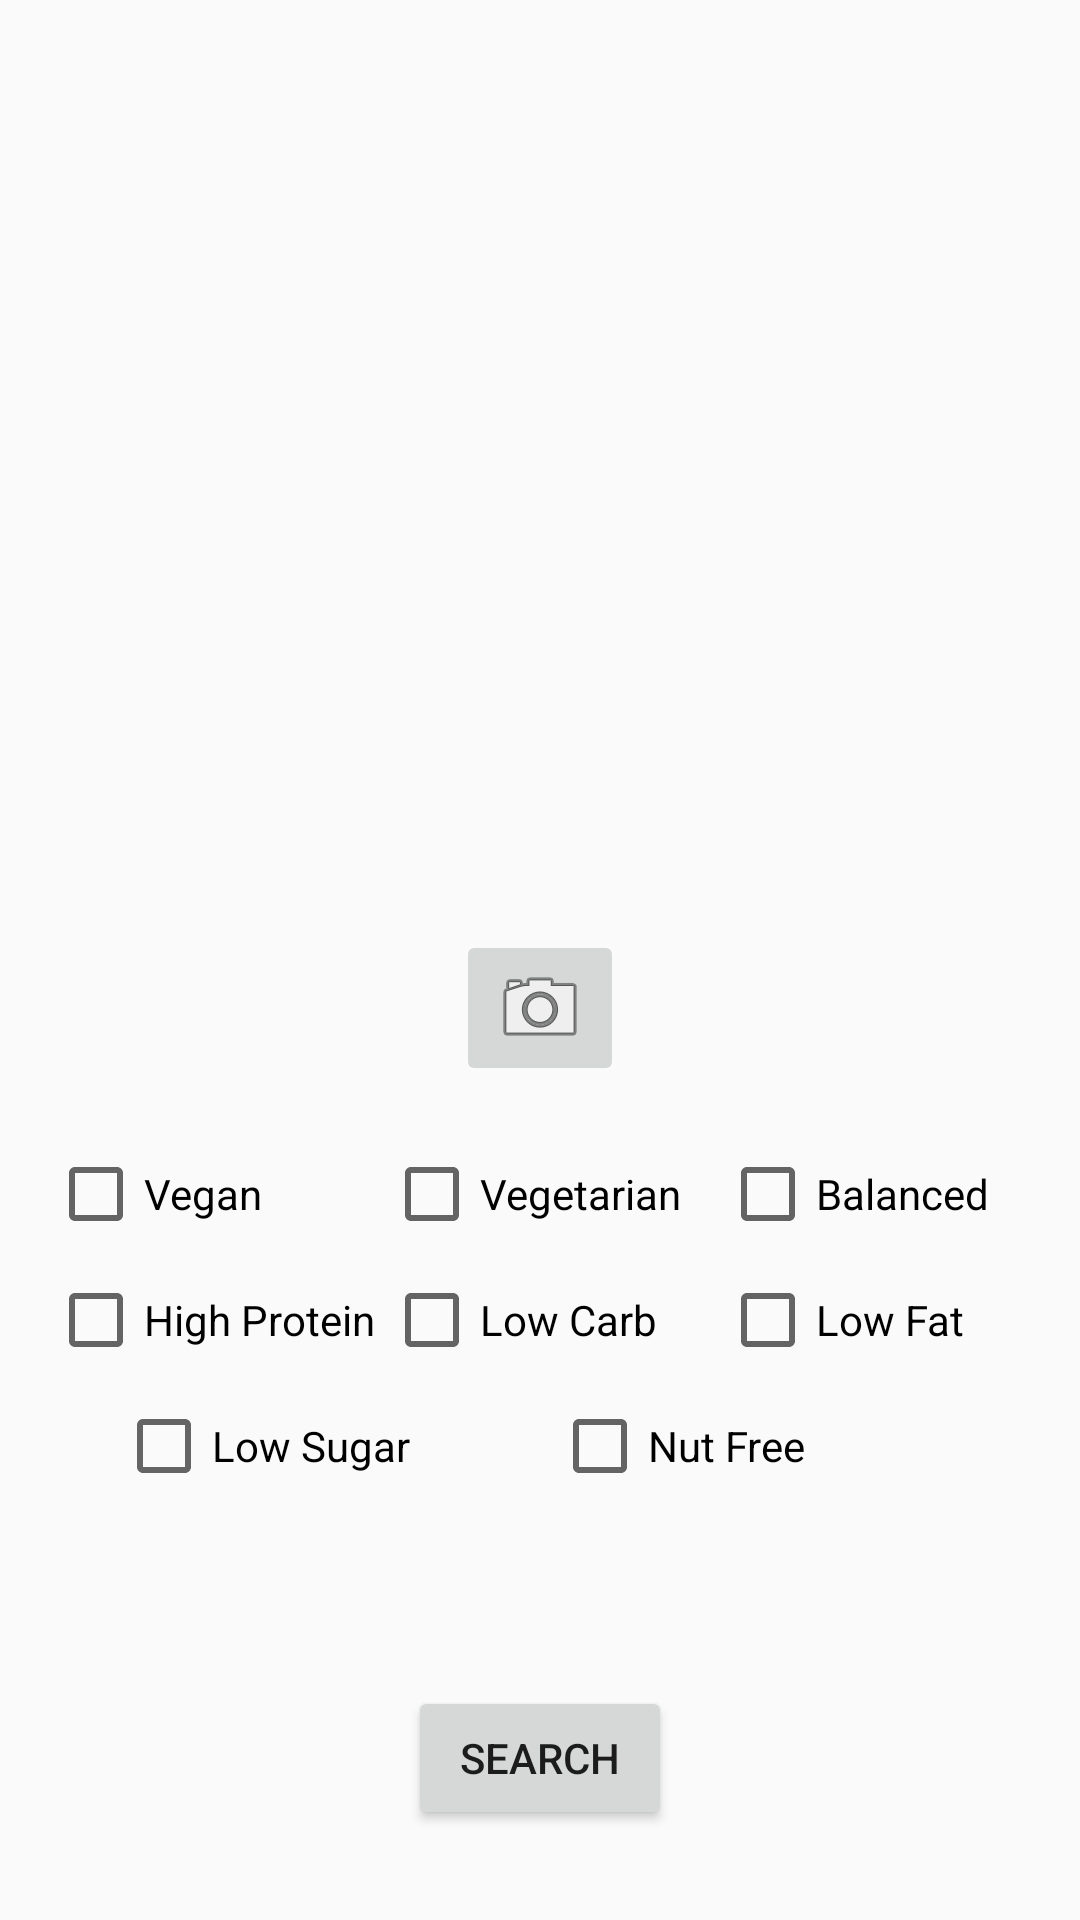

Named icons in this screenshot (1080px×1920px) and their centers, (x,y):
camera: (540,1008)
